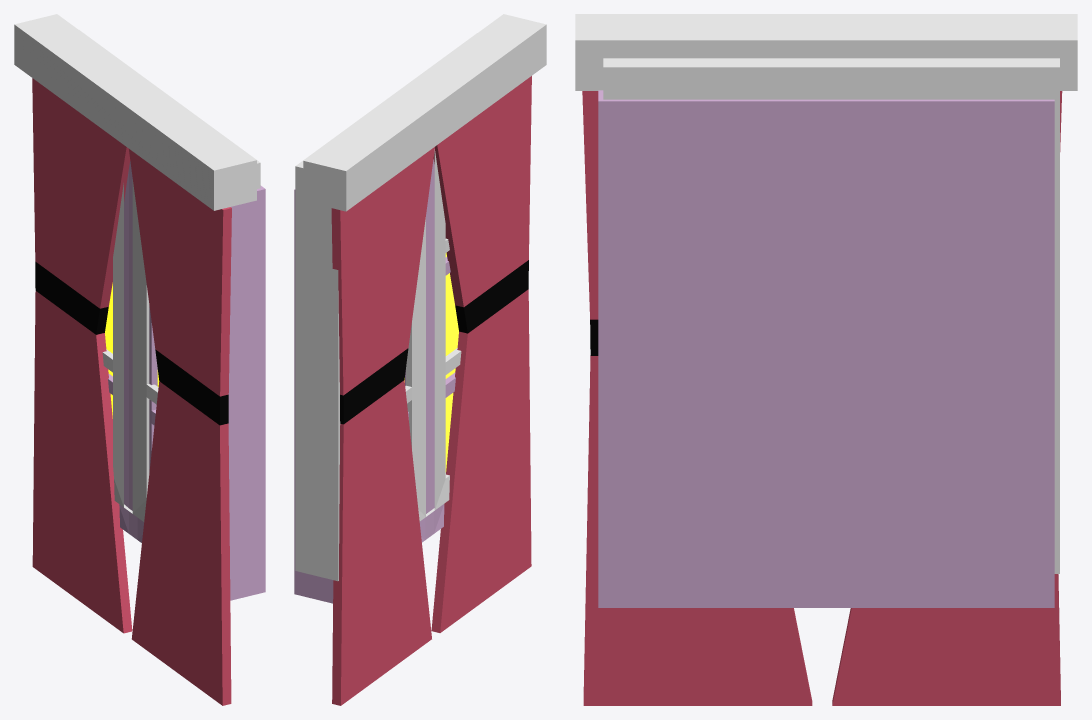
The model's file is Window_.fbx.
3 views of the same model, side by side, from view 1: azimuth 30°, elevation 25°; view 2: azimuth 150°, elevation 25°; view 3: azimuth 270°, elevation 25° (orthographic). The views are drawn at different scales.
Parts seen in each view (by area): view 1: Window; view 2: Window; view 3: Window.
Part boxes in pixels (x1,y1,x2,y2): Window: [14, 14, 265, 705]; Window: [294, 14, 546, 705]; Window: [575, 14, 1077, 705].
Bounding box in the file's own units: 77.19 × 657 × 440.
